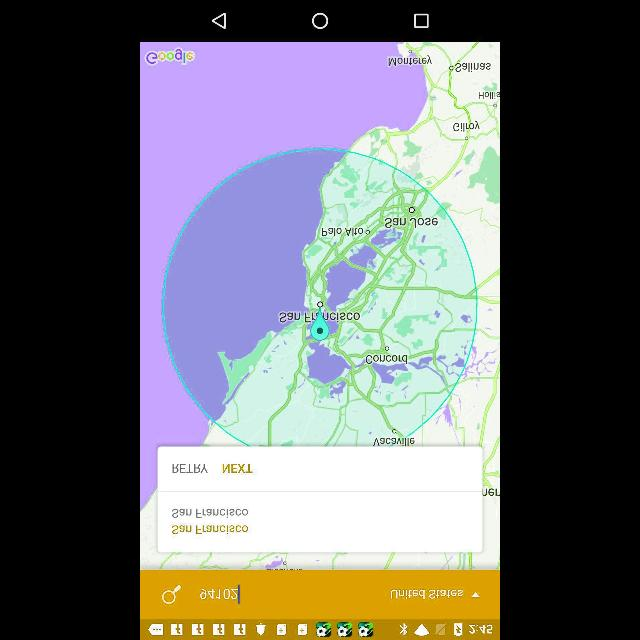icon: (162, 584, 180, 606), (212, 11, 228, 29), (313, 11, 327, 29), (414, 14, 428, 28)
input: (199, 584, 373, 604)
map: (140, 40, 500, 570)
panel: (159, 447, 483, 551), (140, 0, 500, 40)
switch: (390, 586, 482, 602)
text: (173, 524, 249, 536), (174, 508, 250, 518), (200, 585, 240, 599)
textbutton: (170, 461, 210, 475), (220, 462, 253, 474)
toolbar: (140, 570, 500, 618)
uppertaskbar: (140, 618, 500, 640)
